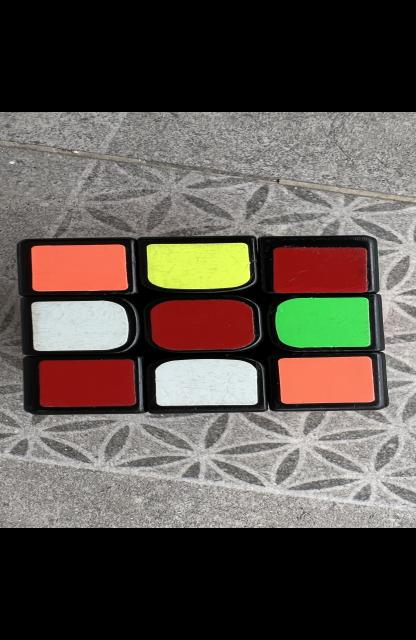Green: (275, 297, 370, 348)
Orange: (276, 357, 375, 404), (30, 244, 126, 292)
Red: (150, 300, 255, 350), (38, 359, 135, 407), (273, 247, 366, 293)
White: (30, 300, 128, 351), (153, 359, 256, 406)
Yellow: (146, 243, 250, 289)
